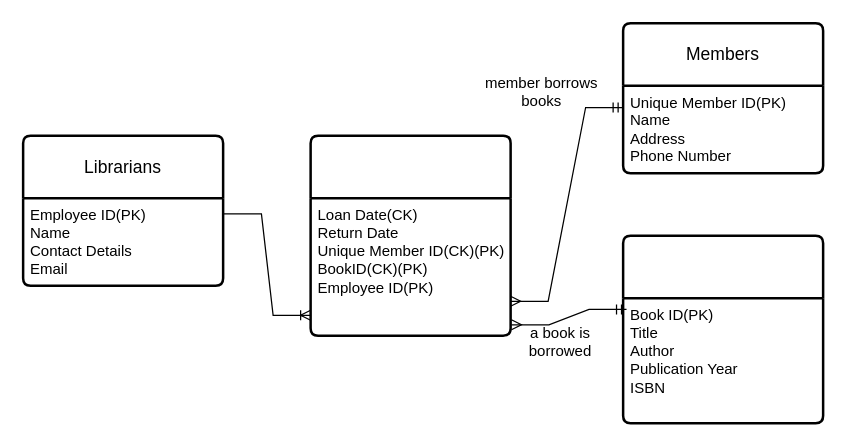
Some shapes in this 845 by 445 pixel diagram are drawn without their labels. The box of each missing label's shape, as (x1, y1, x2, y2) in pixels:
Books: (621, 234, 824, 424)
Loans: (309, 134, 511, 336)
